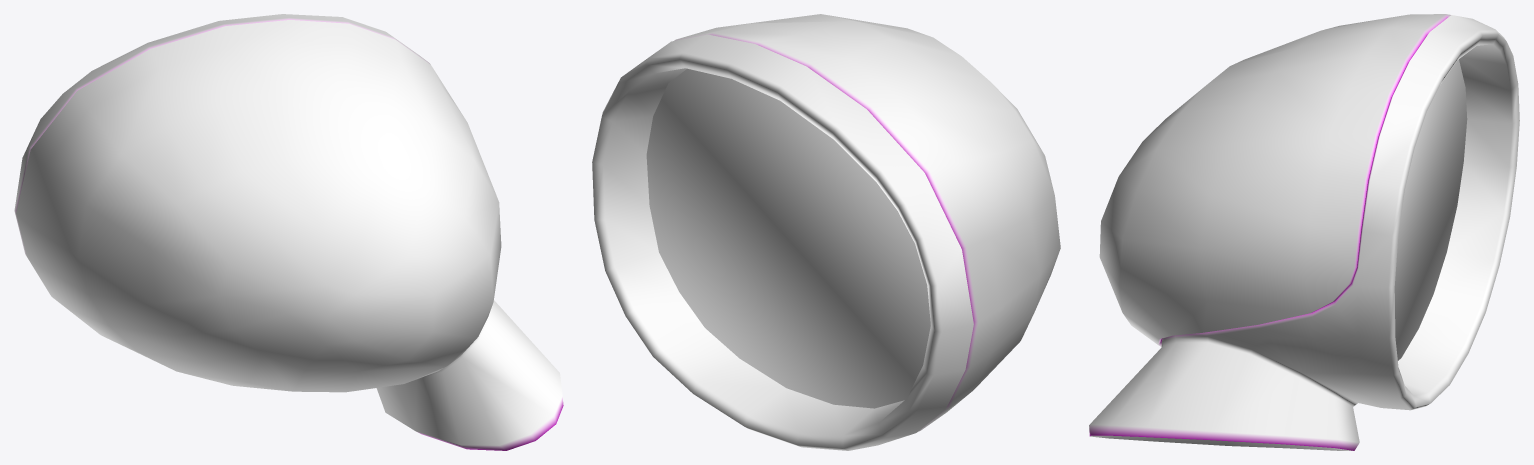
Rendered from Car_Mini_CountrymanJCW_2017_MirrorR_SetC.fbx.
The picture shows the model from 3 angles, left to right: view 1: azimuth 30°, elevation 25°; view 2: azimuth 150°, elevation 25°; view 3: azimuth 270°, elevation 25°; orthographic projection. The views are drawn at different scales.
Visible parts, largest first — view 1: MirrorR 6; view 2: MirrorR 6; view 3: MirrorR 6.
Boxes of the visible parts, x1,y1,x2,y2 form: MirrorR 6: (14,14,563,450); MirrorR 6: (592,14,1060,450); MirrorR 6: (1089,14,1519,450).
Bounding box in the file's own units: 0.2024 × 0.1777 × 0.1887.
